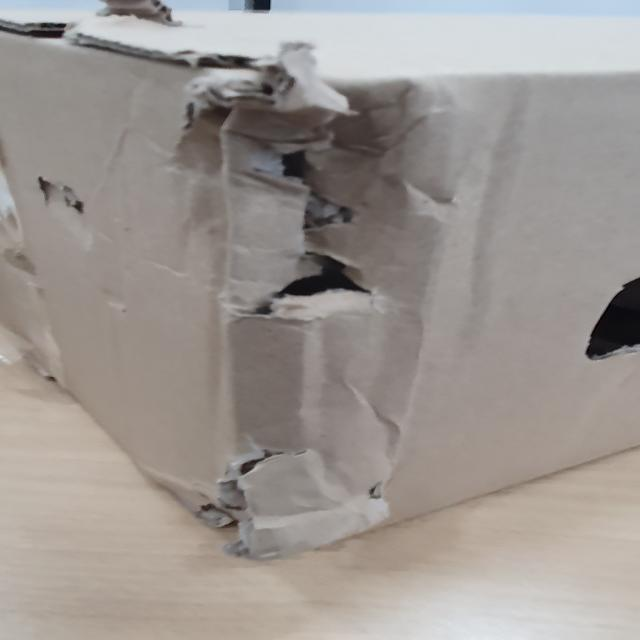hole: (186, 75, 380, 306), (209, 450, 289, 551), (28, 174, 106, 242), (573, 277, 640, 352)
